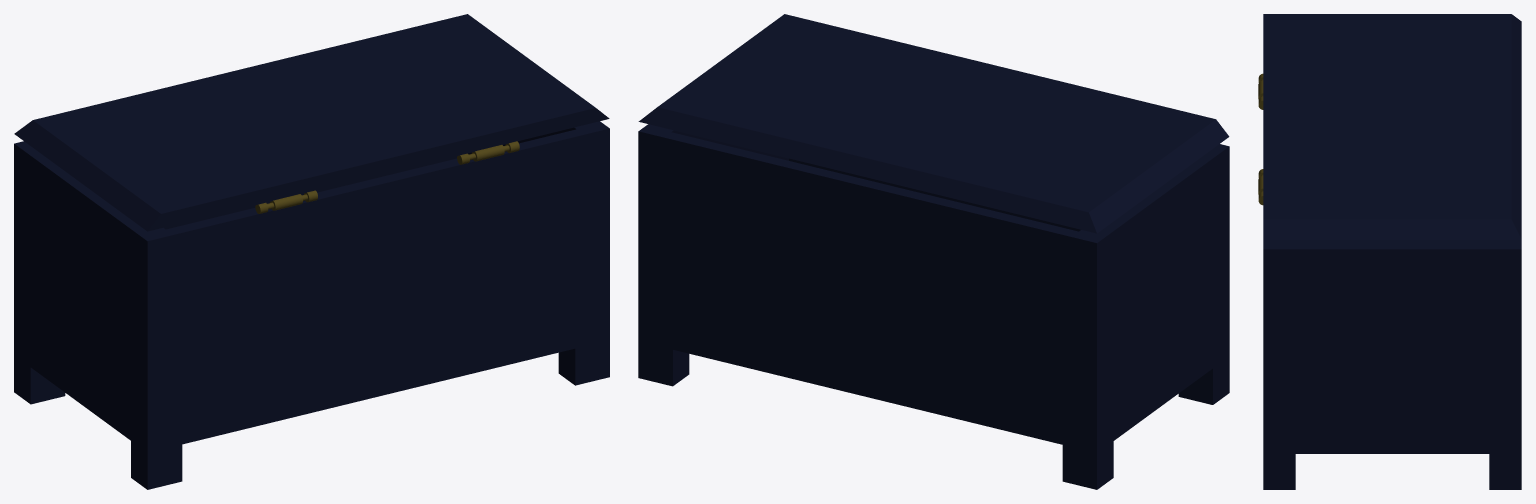
File: baul.FBX
The picture shows the model from 3 angles, left to right: view 1: azimuth 30°, elevation 25°; view 2: azimuth 150°, elevation 25°; view 3: azimuth 270°, elevation 25°; orthographic projection. The views are drawn at different scales.
Parts seen in each view (by area): view 1: Cubo; view 2: Cubo; view 3: Cubo.
Part boxes in pixels (x1,y1,x2,y2): Cubo: [14, 14, 609, 489]; Cubo: [638, 14, 1229, 489]; Cubo: [1258, 14, 1521, 489].
Bounding box in the file's own units: 157 × 88.76 × 80.24.
